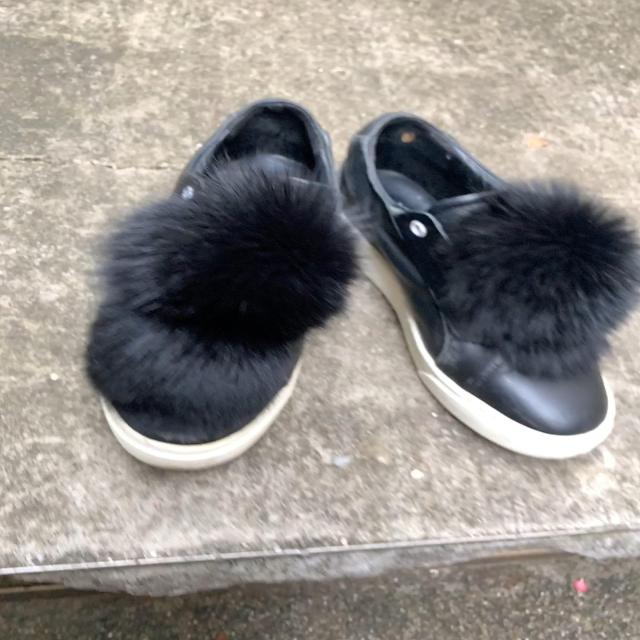shoe: (86, 101, 355, 472), (337, 113, 639, 435)
